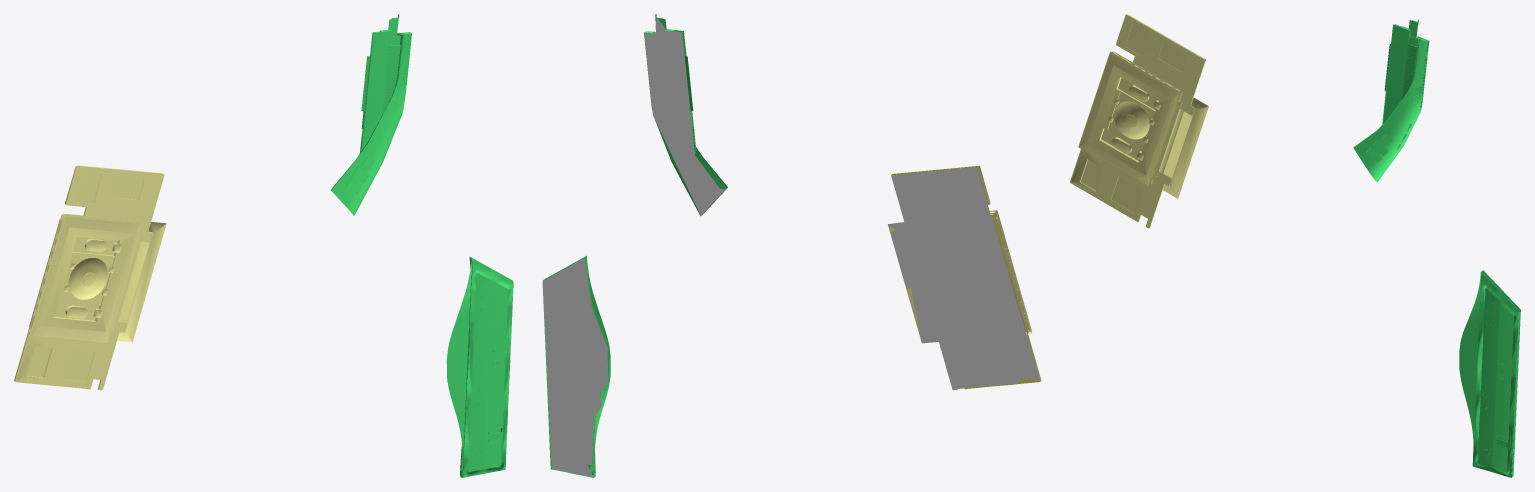
3 views of the same model, side by side, from view 1: azimuth 30°, elevation 25°; view 2: azimuth 150°, elevation 25°; view 3: azimuth 330°, elevation 25° (orthographic). The views are drawn at different scales.
Bounding box in the file's own units: 2355 × 2171 × 37.19.
